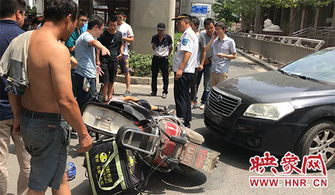10+: (1, 1, 241, 193)
down: (98, 93, 177, 117)
